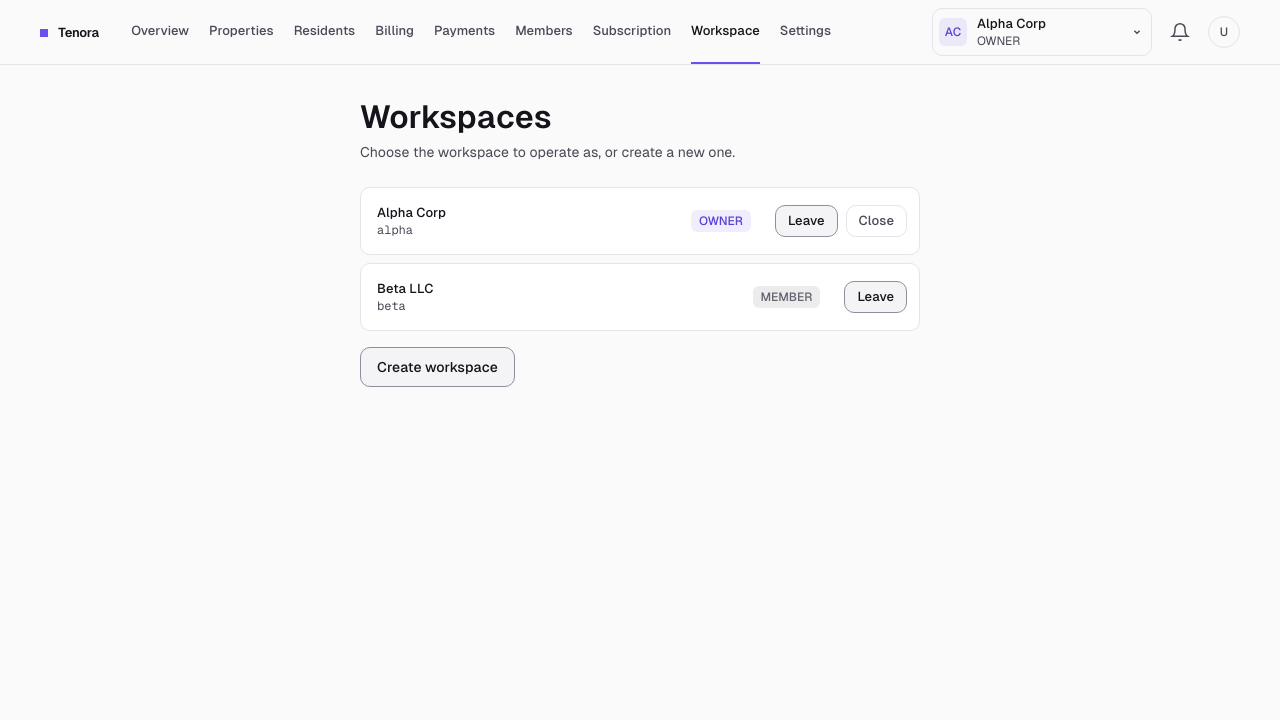
it: WorkspacePage — leaving and closing without switching first › surfaces a refused leave and keeps the membership listed
Click the 1st button "Leave" at x=806, y=221, box [775,205,838,237]
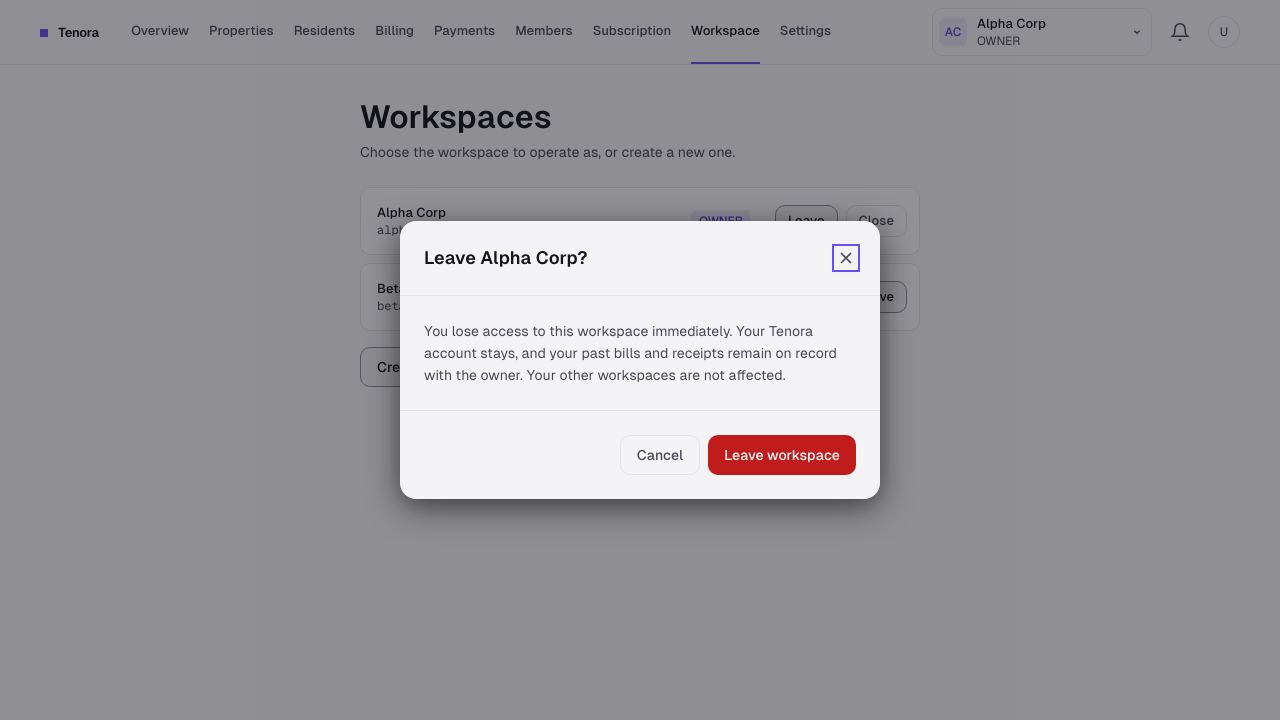
Click the button "Leave workspace" at x=782, y=455, box [708,435,856,475]
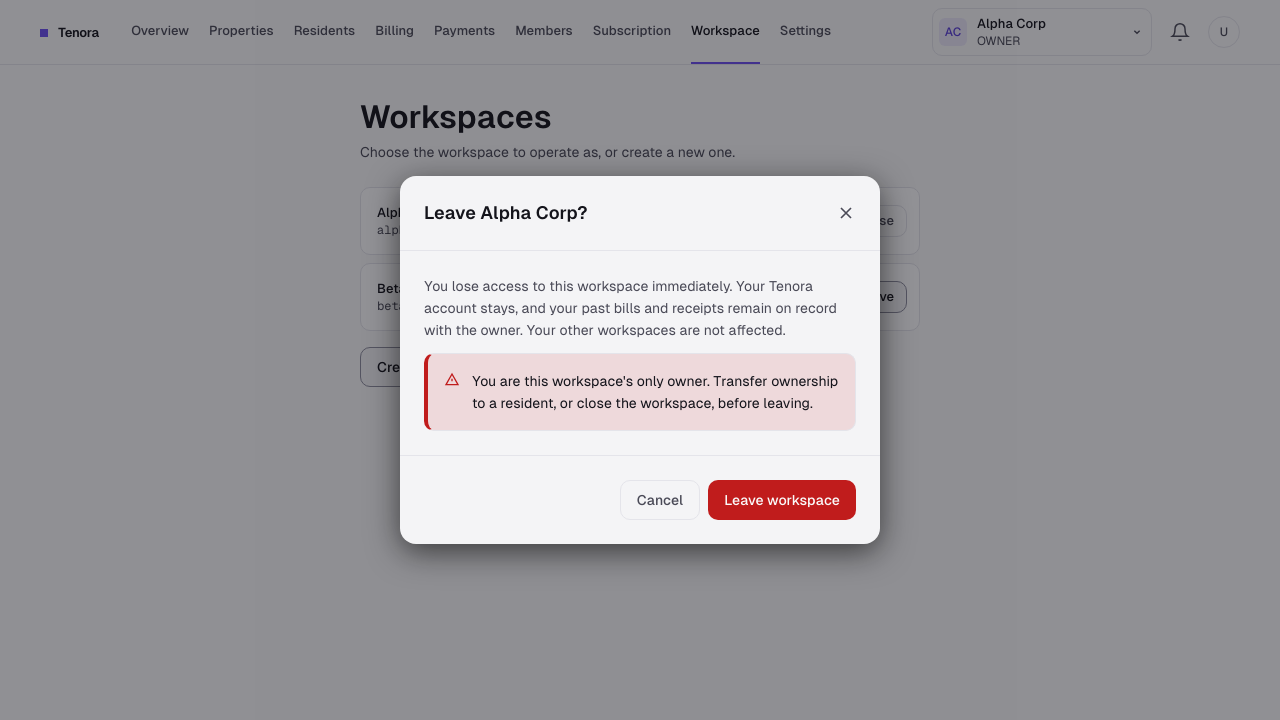
Expected: the text "Alpha Corp" is shown, [377,204,446,222]
Now the dialog is shown, box [400,176,880,544]
Now the text "only owner" is shown, box [472,373,838,411]
